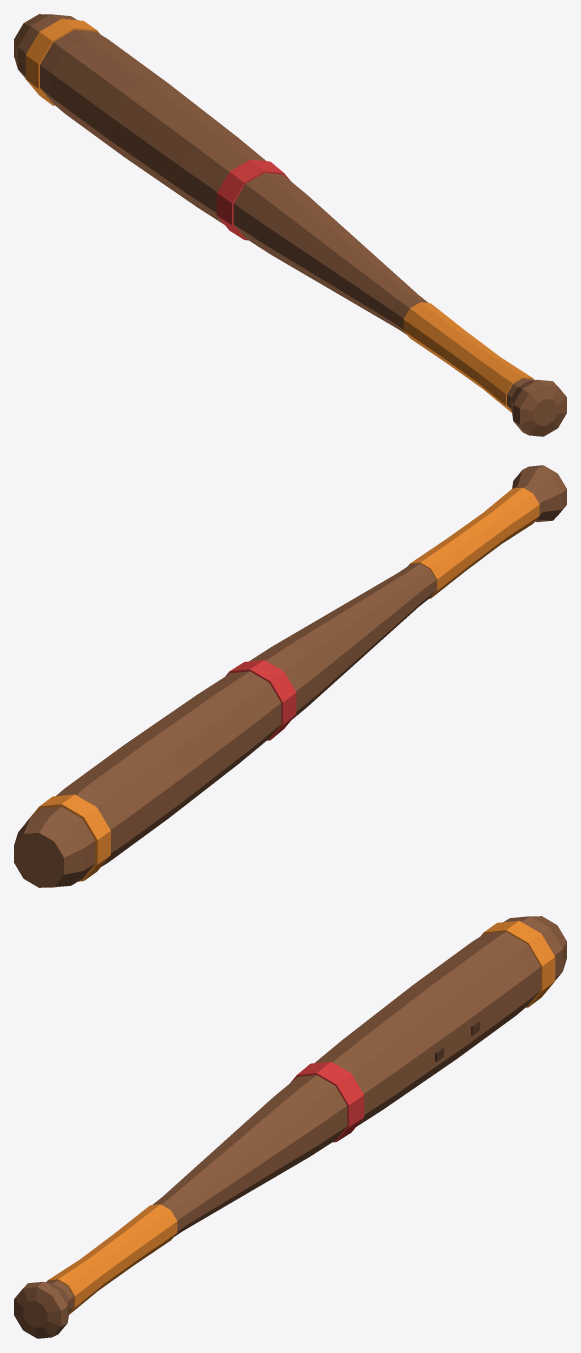
Rendered from bat.glb.
3 renders of one model, top to bottom at view 1: azimuth 30°, elevation 25°; view 2: azimuth 150°, elevation 25°; view 3: azimuth 330°, elevation 25°, orthographic.
Visible parts, largest first — view 1: Body; view 2: Body; view 3: Body.
Part boxes in pixels (left/top/right/bottom): Body: left=14, top=14, right=566, bottom=436; Body: left=14, top=465, right=566, bottom=887; Body: left=14, top=916, right=566, bottom=1338.
Bounding box in the file's own units: 0.0718 × 0.0736 × 0.85.
